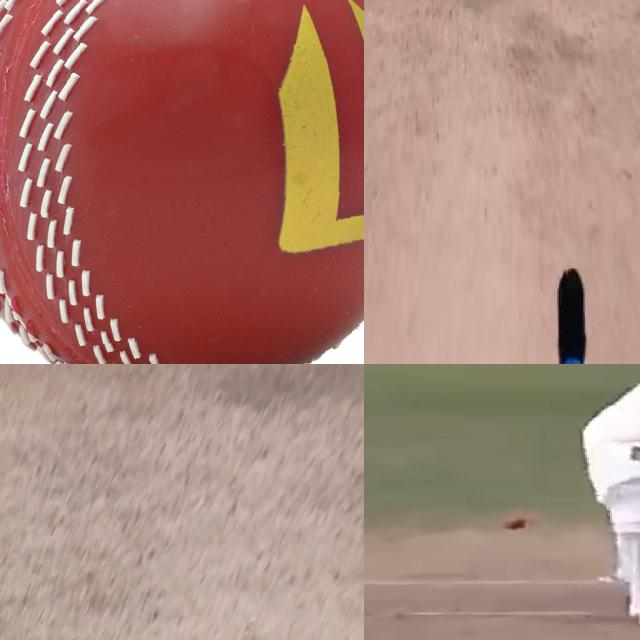Cricket ball: (0, 0, 364, 364), (496, 509, 538, 537)
